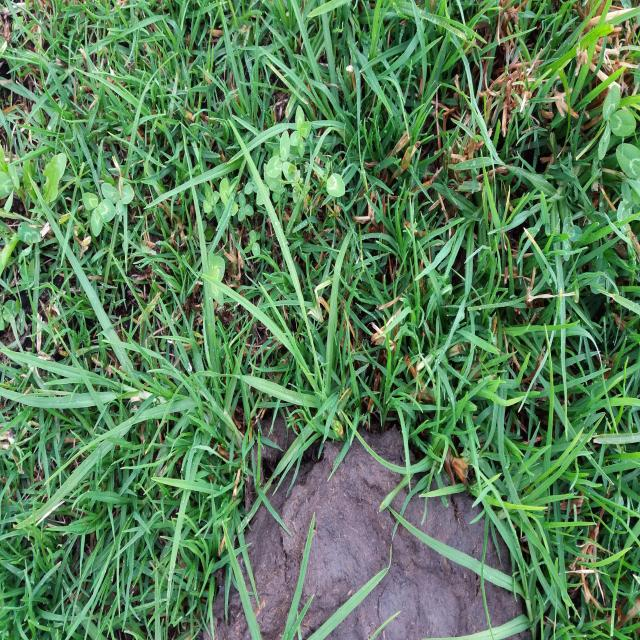Four Leaf Clover: (290, 105, 311, 158)
